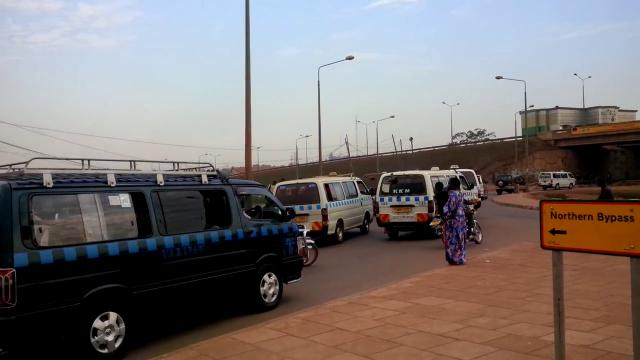van: (0, 154, 310, 360), (270, 173, 369, 245), (371, 168, 471, 239), (452, 167, 484, 207), (537, 170, 575, 190)
